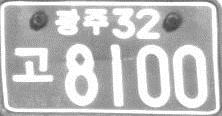0: (171, 42, 209, 109), (135, 42, 171, 109)
1: (109, 43, 127, 109)
2: (134, 6, 162, 41)
3: (110, 6, 136, 41)
8: (63, 42, 99, 107)
고: (10, 45, 55, 85)
광주_O: (53, 6, 110, 36)
